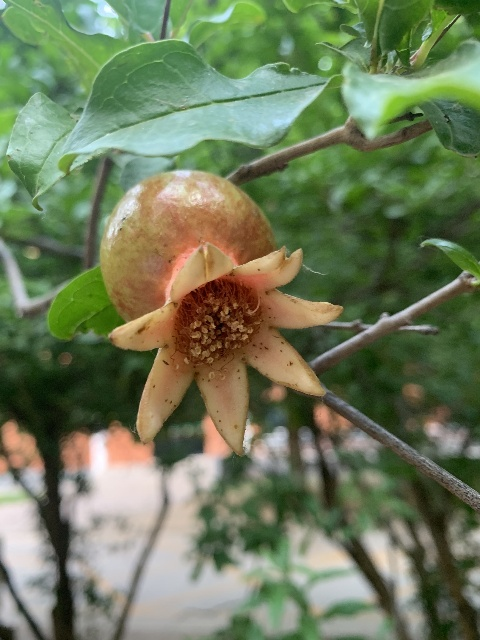early-fruit: (99, 170, 345, 458)
